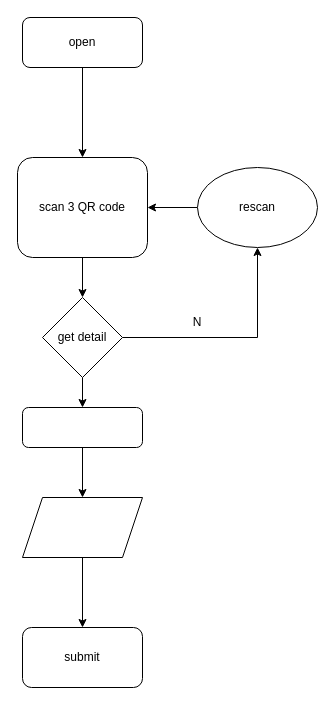
The diagram is 335 pixels wide and 705 high, and some of its shapes have lost their labels. Each missing label, with the centre of its shape:
"input QTY" goes at (x=82, y=527).
"show detail" goes at (x=82, y=427).
